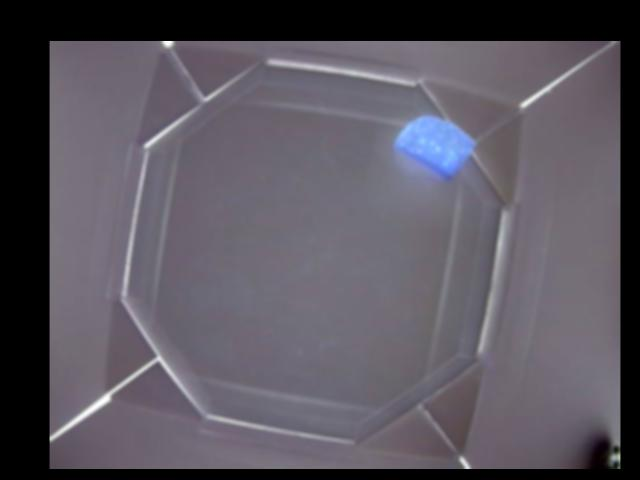Potato: (396, 115, 473, 177)
